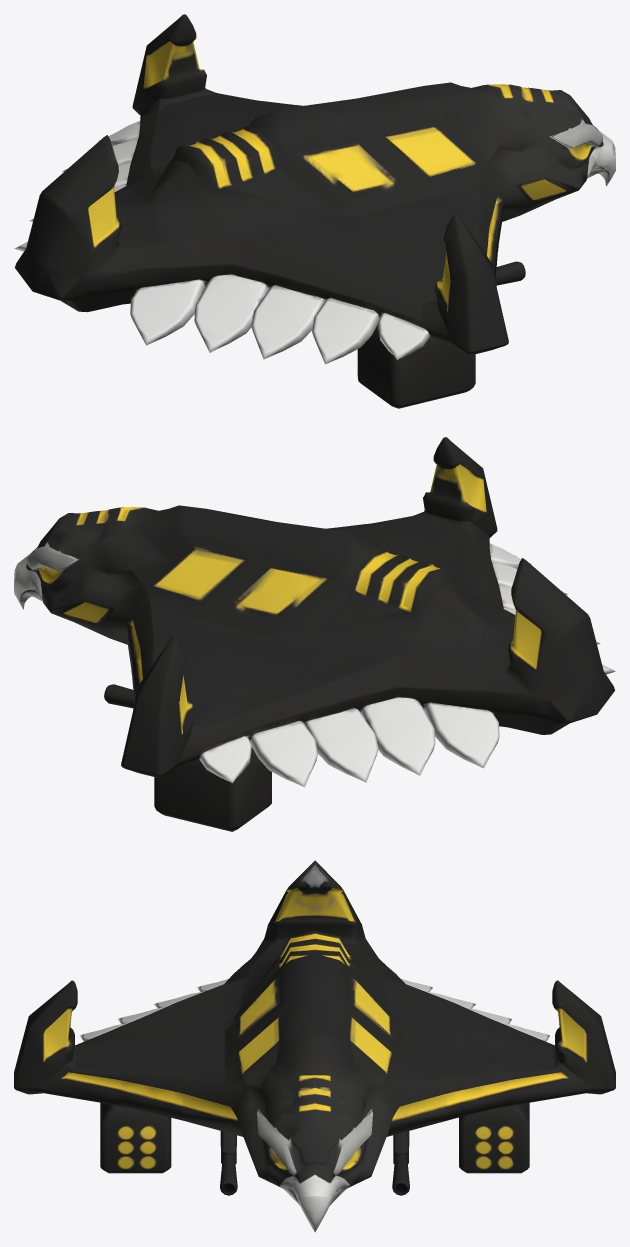
The model's file is skai_thunderhead_v6.glb.
The picture shows the model from 3 angles, top to bottom: view 1: azimuth 30°, elevation 25°; view 2: azimuth 150°, elevation 25°; view 3: azimuth 270°, elevation 25°; orthographic projection. The views are drawn at different scales.
Visible parts, largest first — view 1: tripo_node_8767a97e-0325-4826-a718-abf0cb972fa8; view 2: tripo_node_8767a97e-0325-4826-a718-abf0cb972fa8; view 3: tripo_node_8767a97e-0325-4826-a718-abf0cb972fa8.
Part boxes in pixels (<box>): tripo_node_8767a97e-0325-4826-a718-abf0cb972fa8: <box>14,14,615,408</box>; tripo_node_8767a97e-0325-4826-a718-abf0cb972fa8: <box>14,437,615,831</box>; tripo_node_8767a97e-0325-4826-a718-abf0cb972fa8: <box>14,860,615,1232</box>.
Bounding box in the file's own units: 0.9995 × 0.3794 × 0.9995.
1 material, 1 textured.
